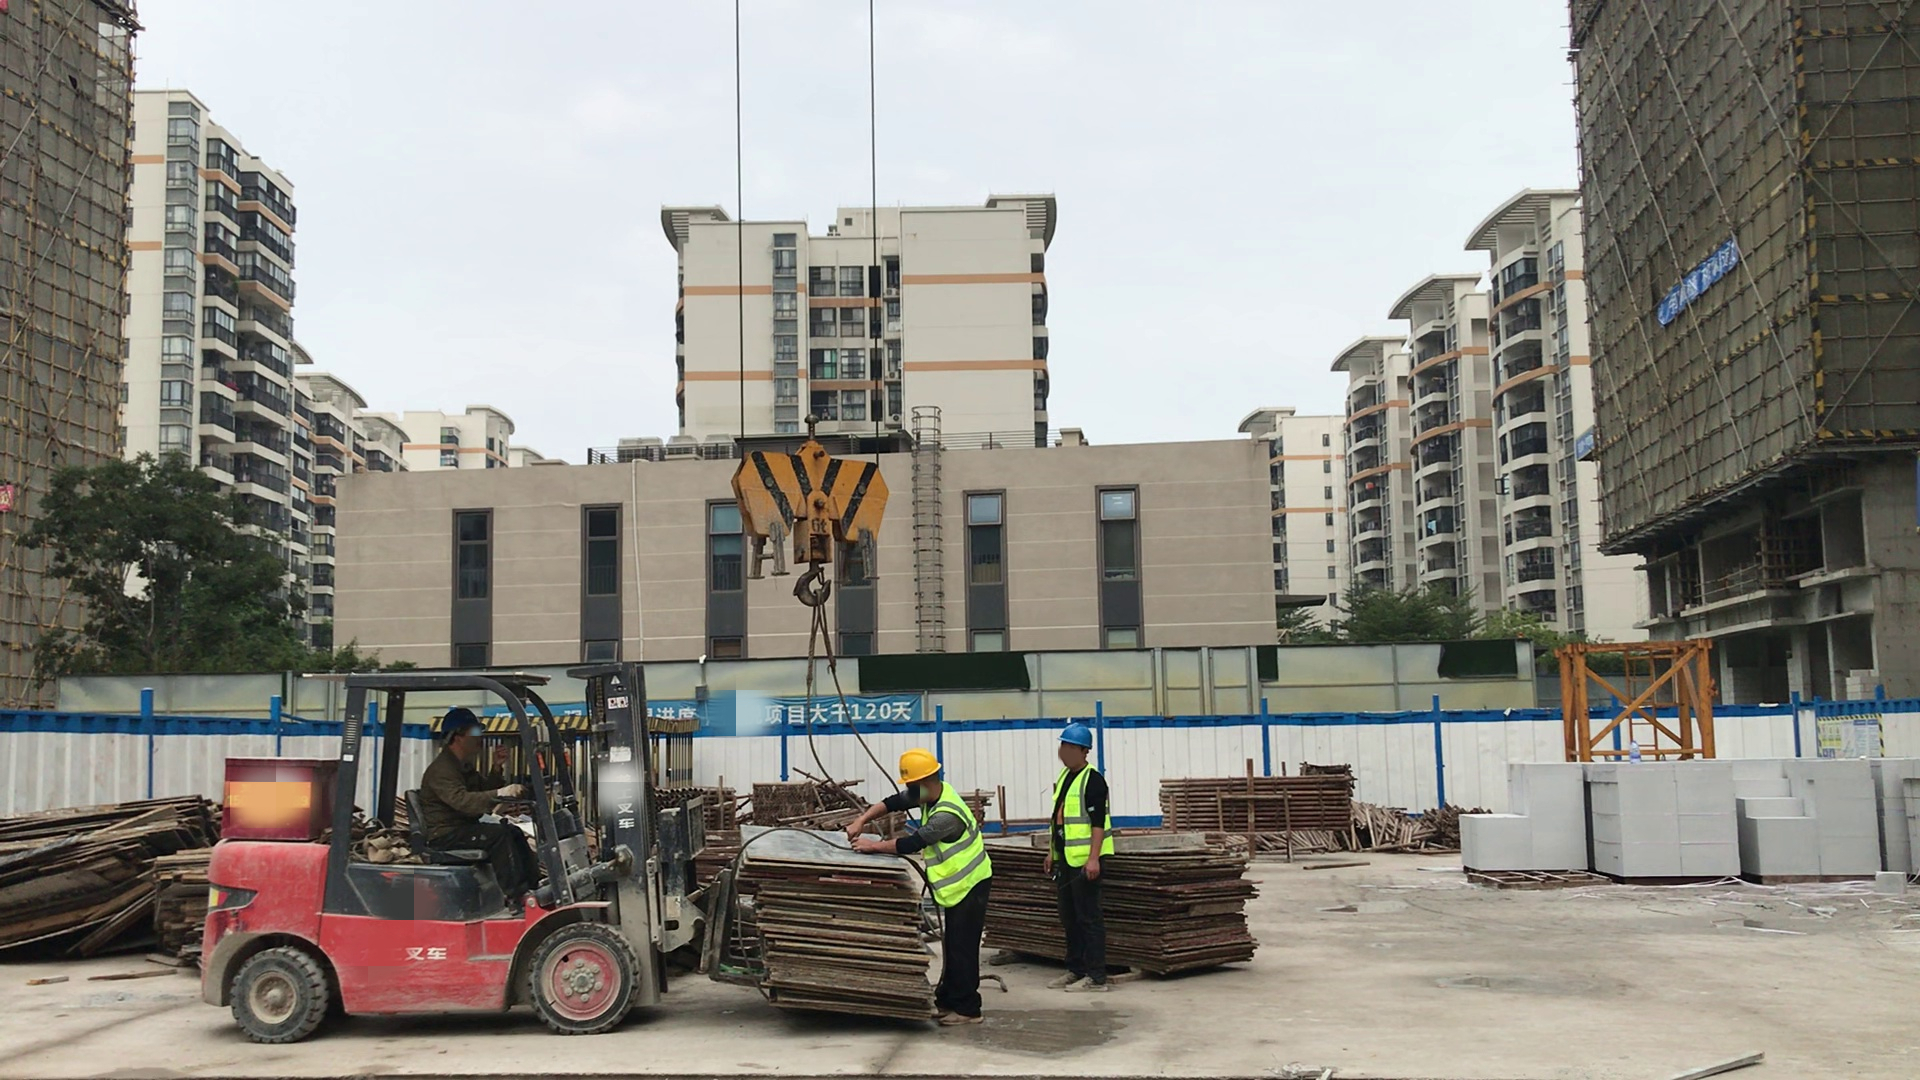board: (733, 821, 941, 1023), (988, 833, 1268, 969), (1, 795, 220, 959)
brick: (1457, 752, 1920, 886)
helmet: (432, 708, 489, 744), (895, 748, 944, 784), (1059, 722, 1096, 752)
hook: (726, 413, 901, 608)
person: (881, 741, 995, 1031), (425, 702, 533, 909), (1048, 716, 1114, 993)
scaffold: (1158, 775, 1351, 831), (751, 779, 863, 818), (657, 781, 734, 826)
slogan: (696, 695, 922, 734), (1653, 237, 1740, 330), (1810, 713, 1889, 761)
vest: (925, 789, 989, 908), (1052, 767, 1113, 871)
